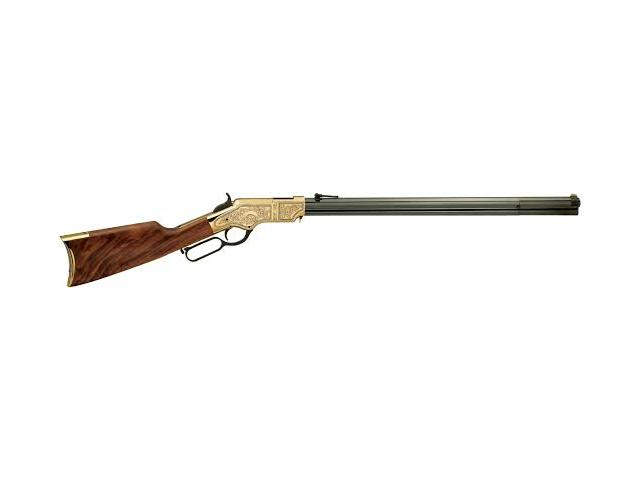rifle: (62, 170, 584, 300)
